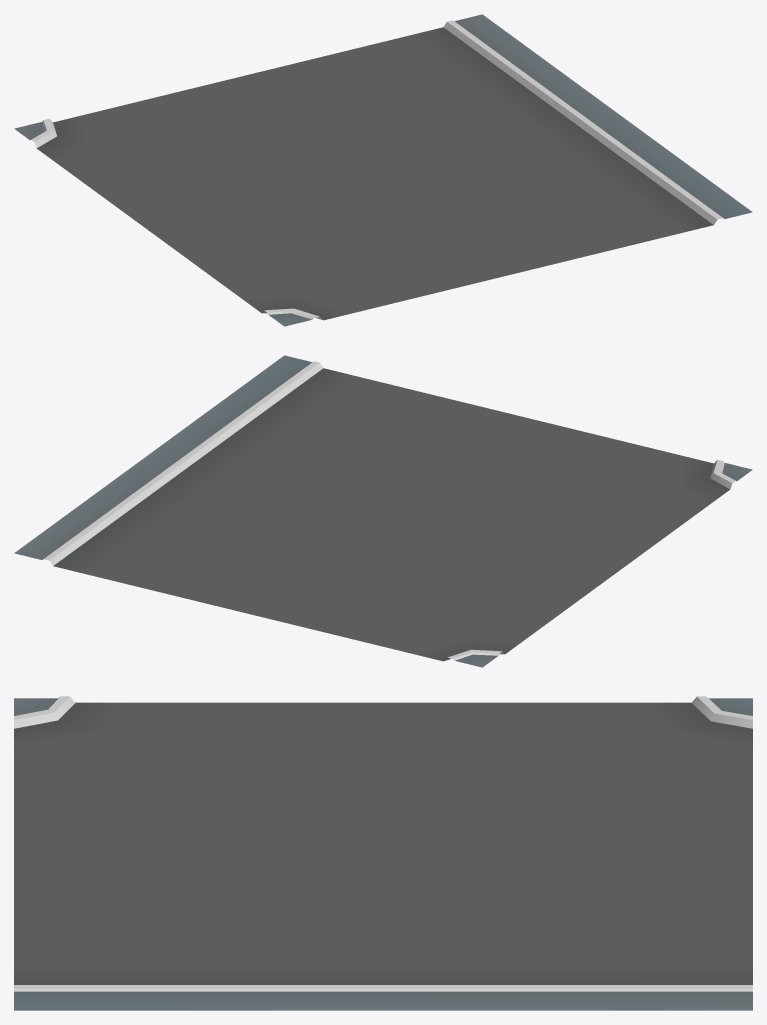
File: OnewayRoad04.fbx
3 views of the same model, one above another, from view 1: azimuth 30°, elevation 25°; view 2: azimuth 150°, elevation 25°; view 3: azimuth 270°, elevation 25° (orthographic). The views are drawn at different scales.
Visible parts, largest first — view 1: SRoad13.004; view 2: SRoad13.004; view 3: SRoad13.004.
Boxes of the visible parts, x1,y1,x2,y2 form: SRoad13.004: [14, 14, 752, 326]; SRoad13.004: [14, 355, 752, 667]; SRoad13.004: [14, 696, 752, 1010].
Size of the model in its own units: 6 by 0.0569 by 6.
